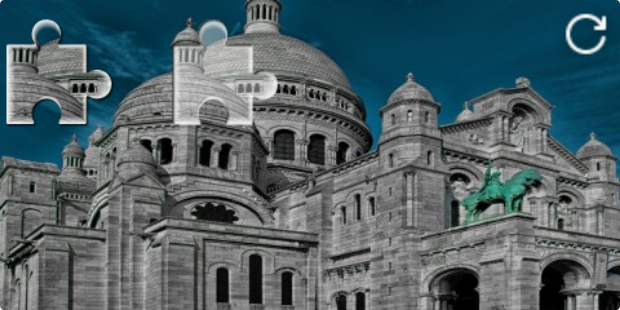target: (173, 20, 278, 126)
